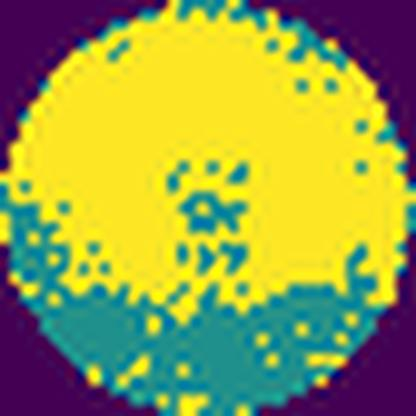Edge-Loc: (0, 0, 415, 343)
